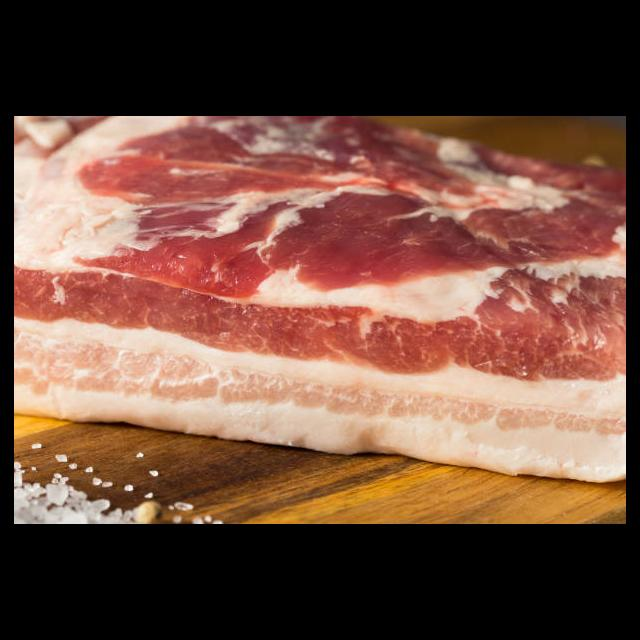pork: (14, 116, 626, 452)
